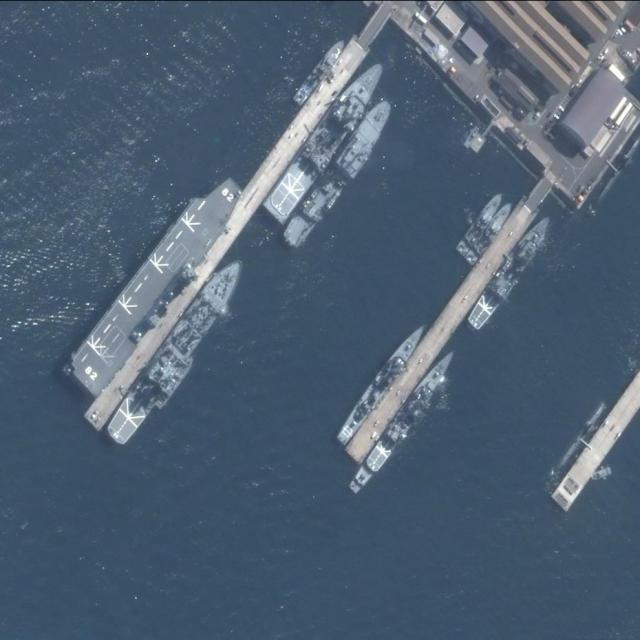Auxiliary Ships: (103, 253, 251, 448), (278, 94, 402, 253), (462, 209, 562, 334)
Destroyer: (63, 165, 250, 396), (345, 343, 460, 498)
Dock: (85, 3, 388, 427), (341, 180, 553, 465)
Landing: (259, 56, 392, 228)
Other Warship: (333, 319, 431, 445), (455, 185, 511, 257), (464, 195, 520, 266), (293, 36, 348, 106)
Submarine: (541, 399, 608, 493), (586, 139, 638, 213)
